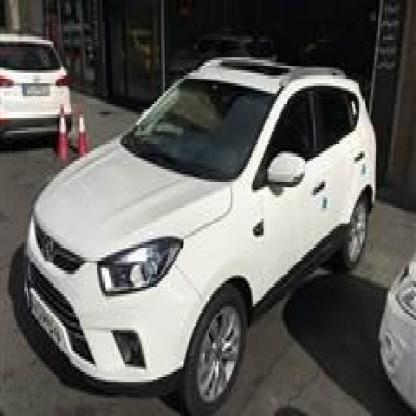Car: (9, 60, 383, 416), (0, 23, 76, 163)
